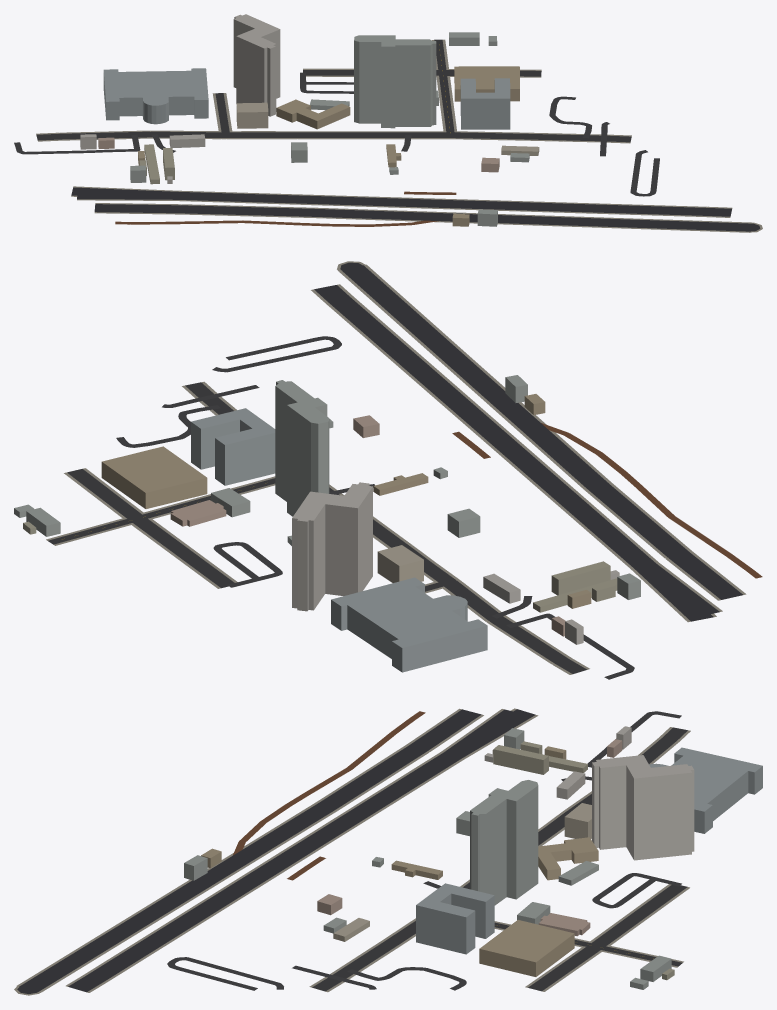
3 renders of one model, top to bottom at view 1: azimuth 30°, elevation 25°; view 2: azimuth 150°, elevation 25°; view 3: azimuth 270°, elevation 25°, orthographic. The views are drawn at different scales.
Parts seen in each view (by area): view 1: tile_-1_1; view 2: tile_-1_1; view 3: tile_-1_1.
Boxes of the visible parts, x1,y1,x2,y2 form: tile_-1_1: [14, 14, 762, 232]; tile_-1_1: [14, 261, 762, 679]; tile_-1_1: [14, 708, 762, 995].
Size of the model in its own units: 414 by 66 by 456.
